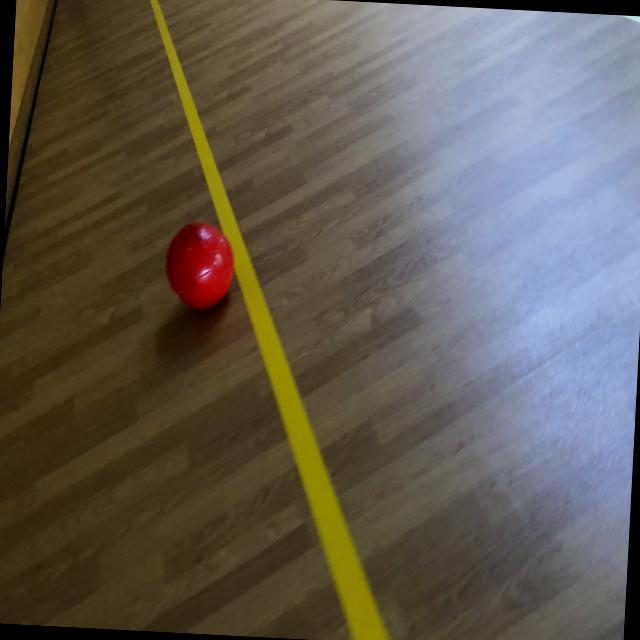red_ball: (164, 220, 237, 310)
